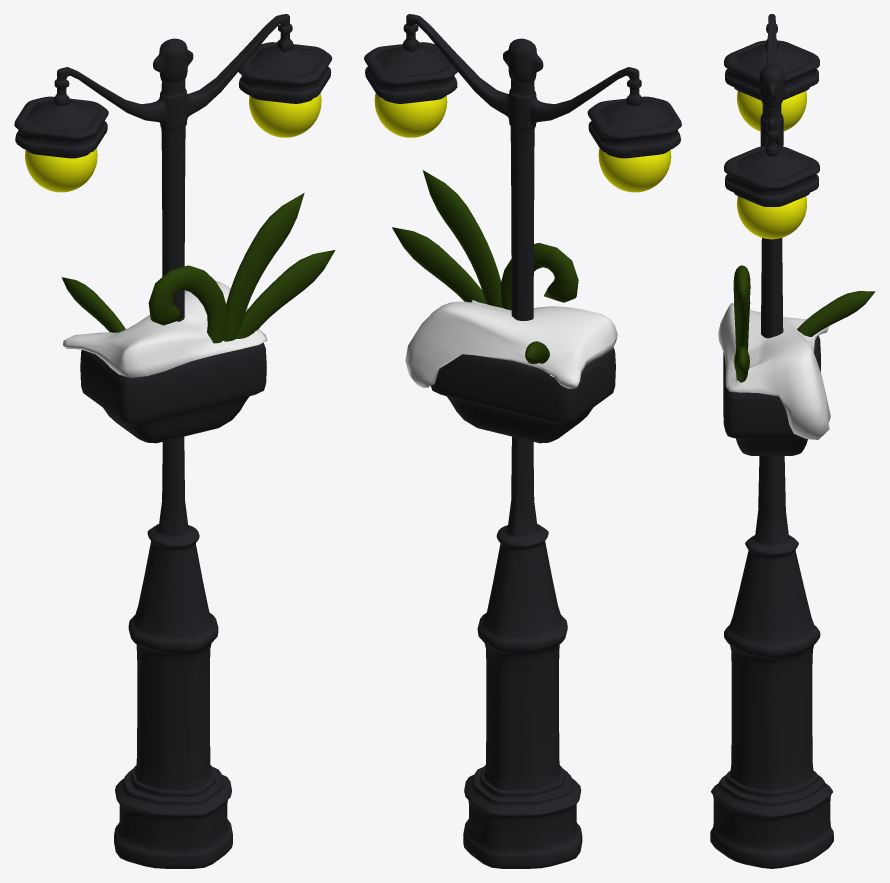
File: Farol_H3.fbx
The picture shows the model from 3 angles, left to right: view 1: azimuth 30°, elevation 25°; view 2: azimuth 150°, elevation 25°; view 3: azimuth 270°, elevation 25°; orthographic projection. The views are drawn at different scales.
Visible parts, largest first — view 1: pCube10; view 2: pCube10; view 3: pCube10.
Boxes of the visible parts, x1,y1,x2,y2 form: pCube10: (14,14,335,868); pCube10: (364,14,681,868); pCube10: (710,14,875,868).
Bounding box in the file's own units: 10.61 × 26.4 × 5.08.
